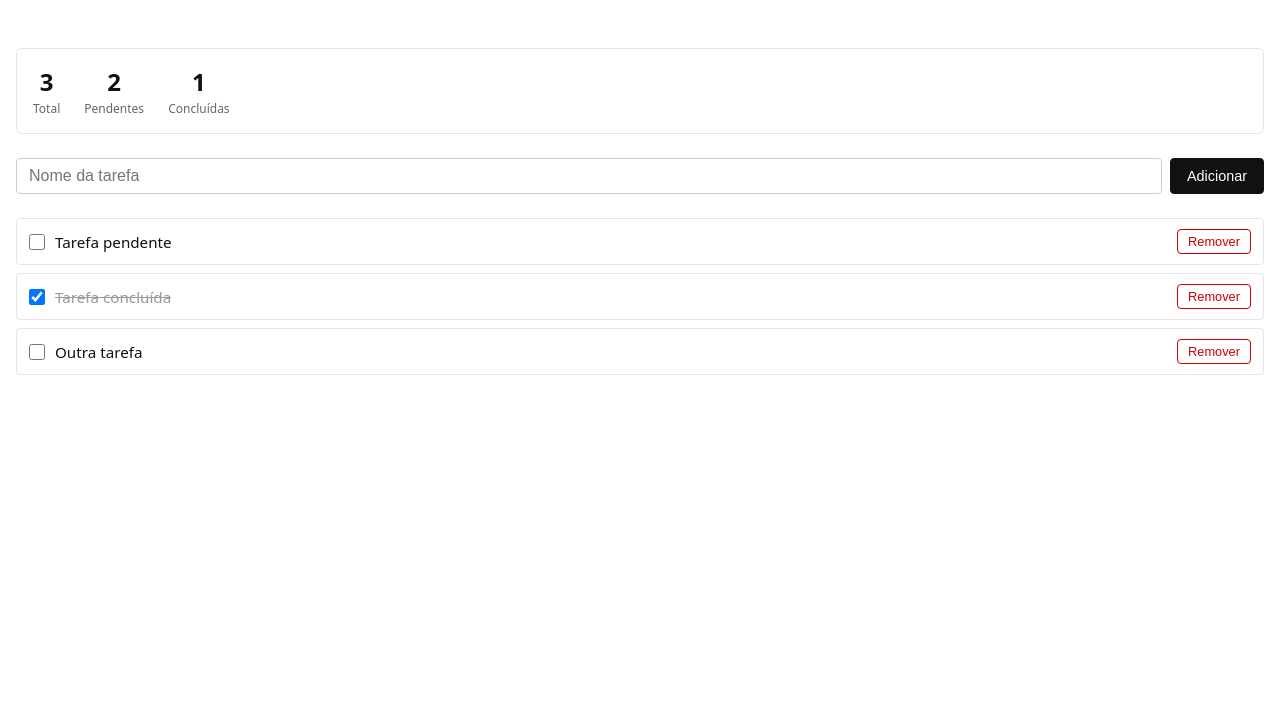
it: ListaTarefas › Remover tarefa — modal › abre o modal ao clicar em Remover
Click the button with aria-label "remover tarefa" at {"x": 1214, "y": 242}, box [1177,229,1251,254]
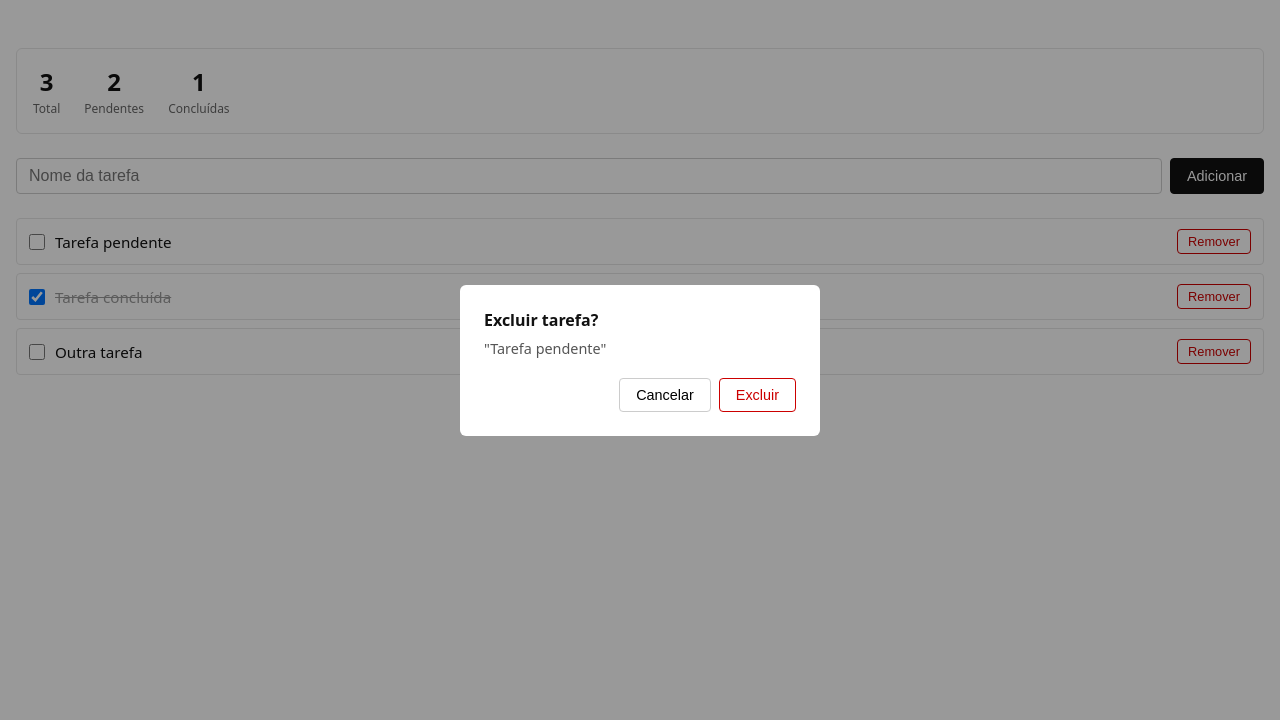
Now the dialog is shown
